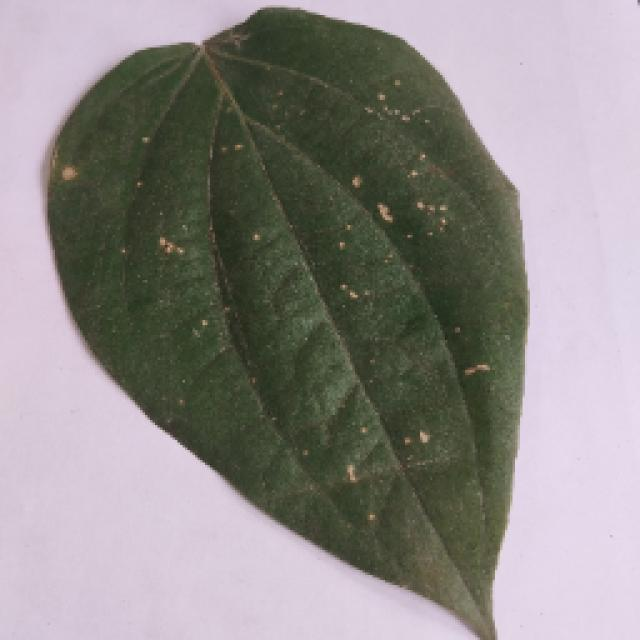pollu-disease: (45, 10, 523, 635)
